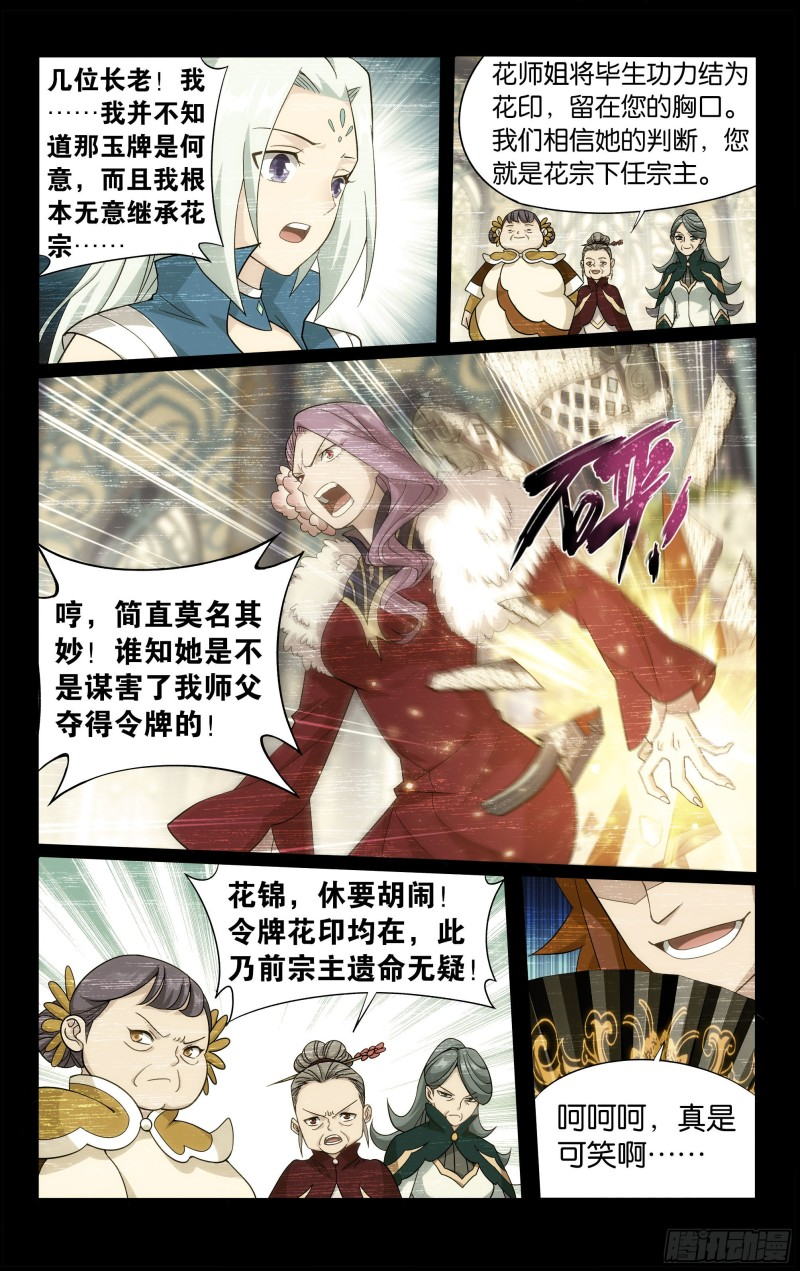boxBomb: (27, 532, 324, 811), (183, 850, 510, 1026), (30, 50, 243, 281)
boxEllipse: (456, 50, 771, 215)
boxEllirpse: (522, 1039, 762, 1207)
minBox: (24, 323, 765, 877), (27, 850, 531, 1207), (24, 44, 447, 371), (441, 41, 765, 344), (510, 868, 763, 1207)
